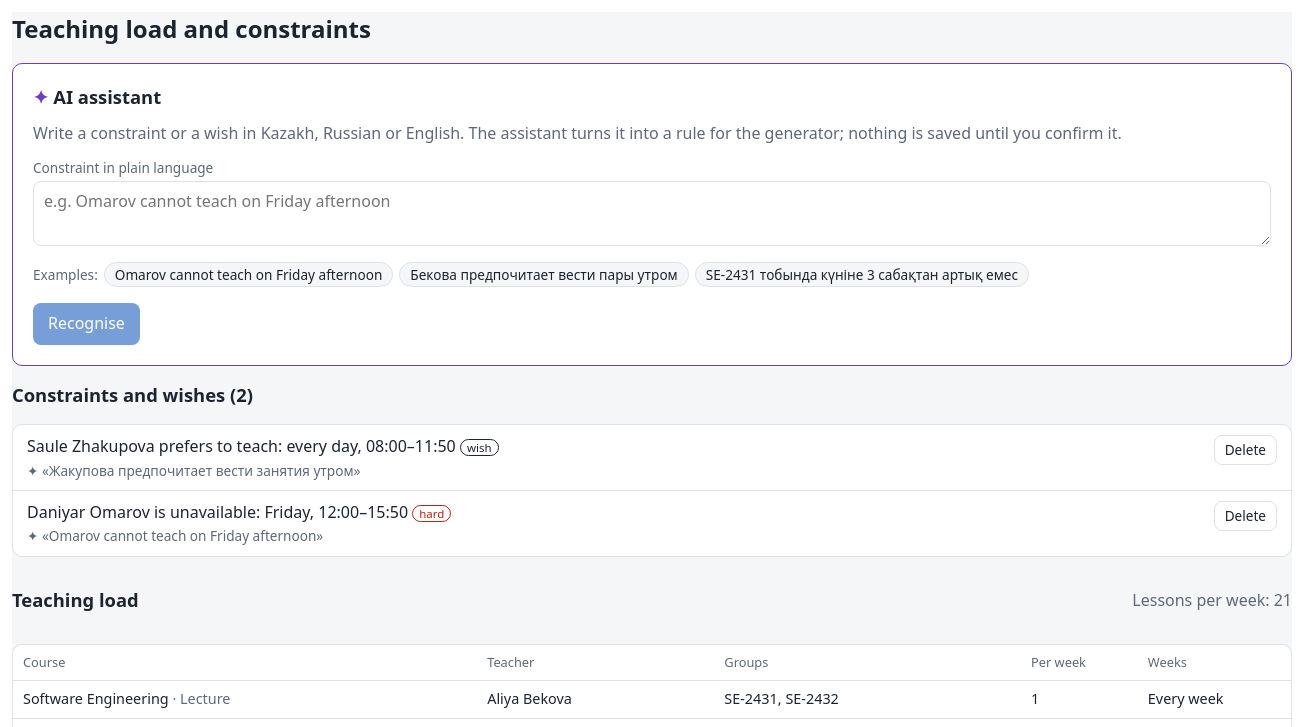
it: LoadPage › warns about an unknown name instead of guessing
The image size is (1304, 727).
In the text box labelled "Constraint in plain language": (652,214) [33,181,1271,246], type "Иванов не может вести в пятницу"
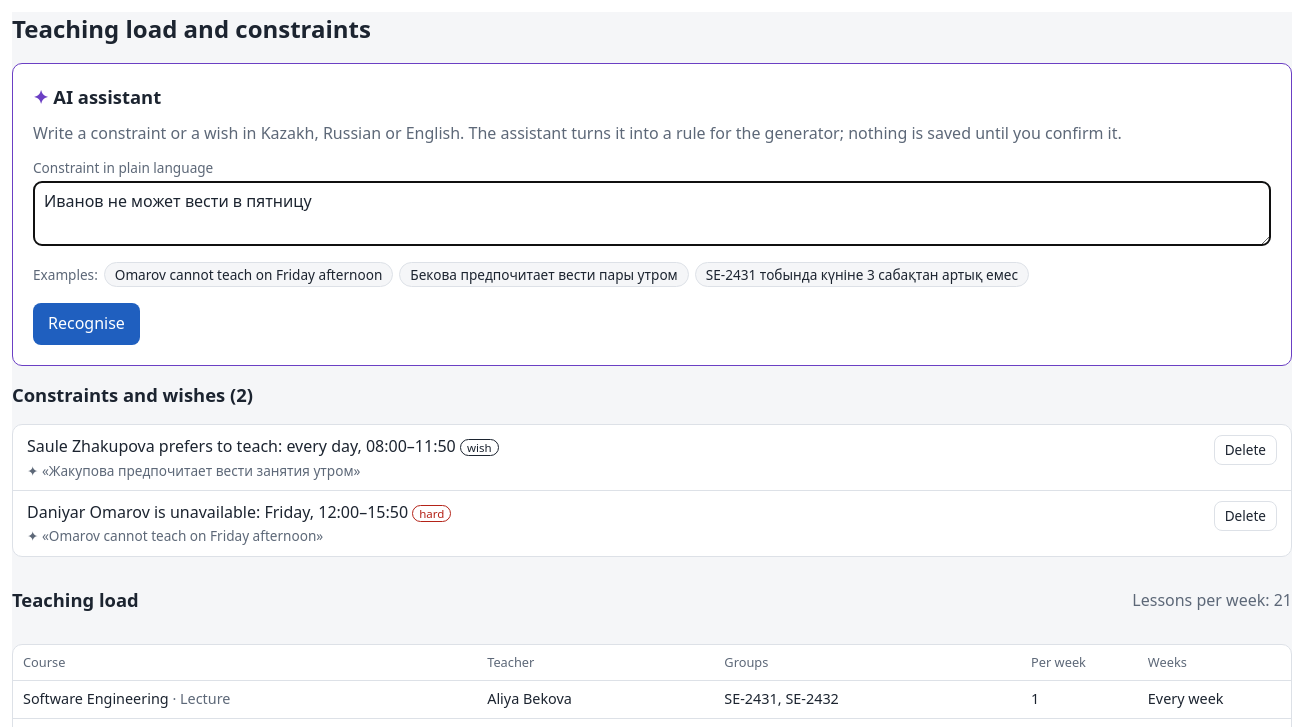
Click the button "Recognise": (86,324) [33,304,140,345]
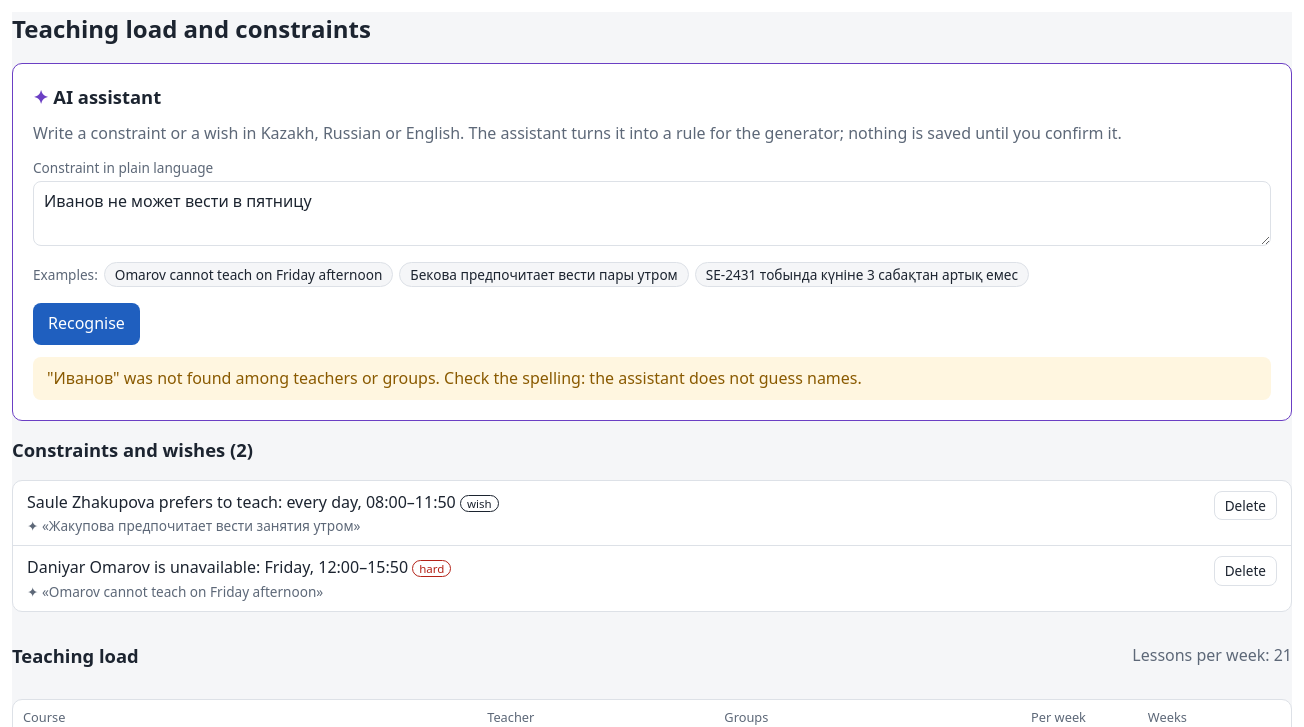
Result: the message shows "\"Иванов\" was not found" at [47,367,862,389]
